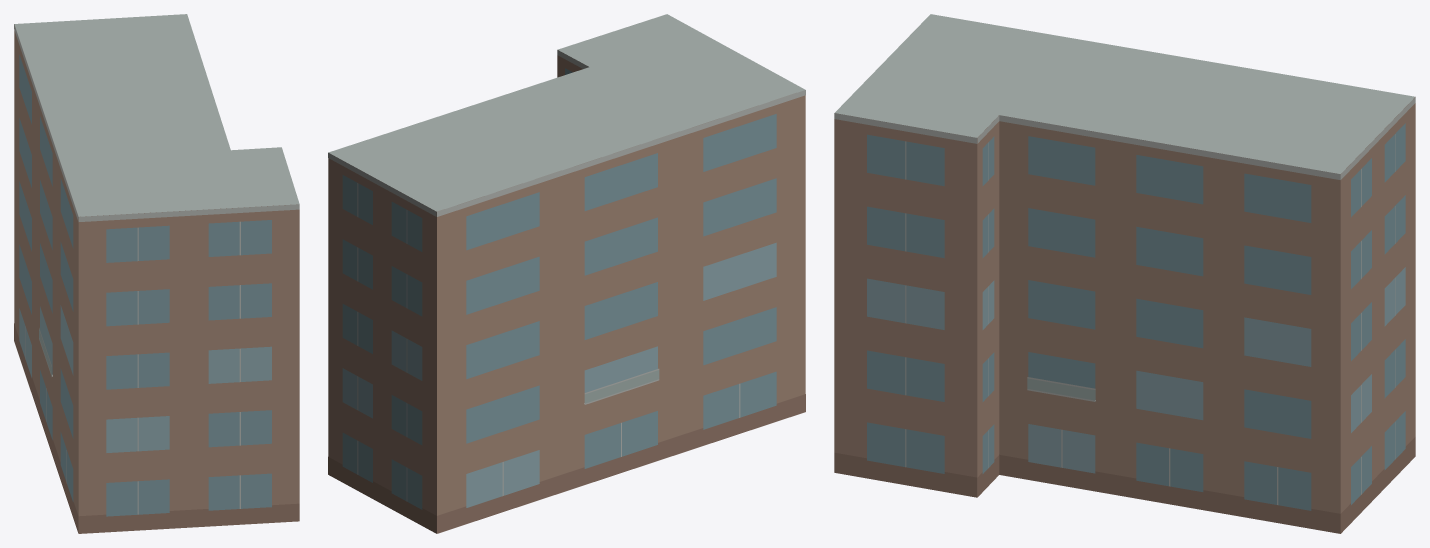
File: survey-upis-32652661.glb
The picture shows the model from 3 angles, left to right: view 1: azimuth 30°, elevation 25°; view 2: azimuth 150°, elevation 25°; view 3: azimuth 270°, elevation 25°; orthographic projection. The views are drawn at different scales.
Visible parts, largest first — view 1: survey-upis-32652661.tmp; view 2: survey-upis-32652661.tmp; view 3: survey-upis-32652661.tmp.
Boxes of the visible parts, <box> form: survey-upis-32652661.tmp: <box>14,14,299,533</box>; survey-upis-32652661.tmp: <box>328,14,805,533</box>; survey-upis-32652661.tmp: <box>834,14,1415,533</box>.
Size of the model in its own units: 13.85 by 14.5 by 21.24.
